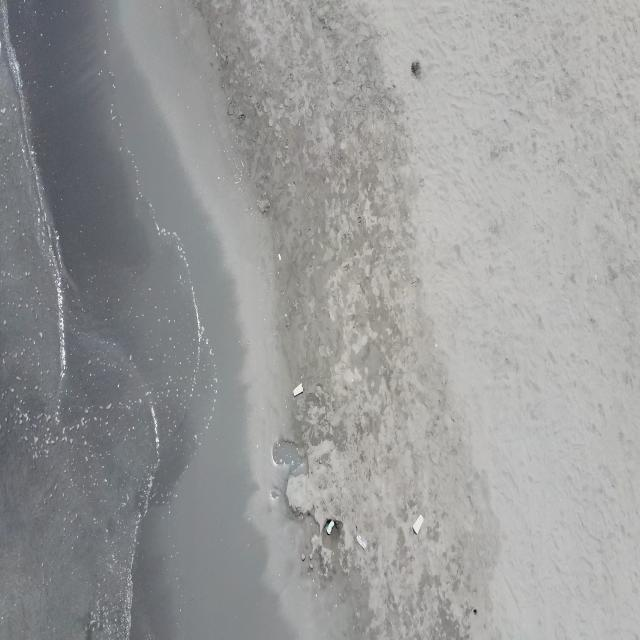takeaway-cup: (412, 514, 423, 535), (356, 534, 367, 550), (293, 382, 304, 397), (326, 520, 335, 536)
